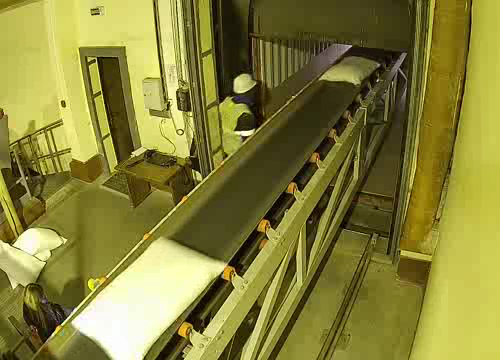bag: (63, 237, 238, 360), (313, 49, 390, 90)
